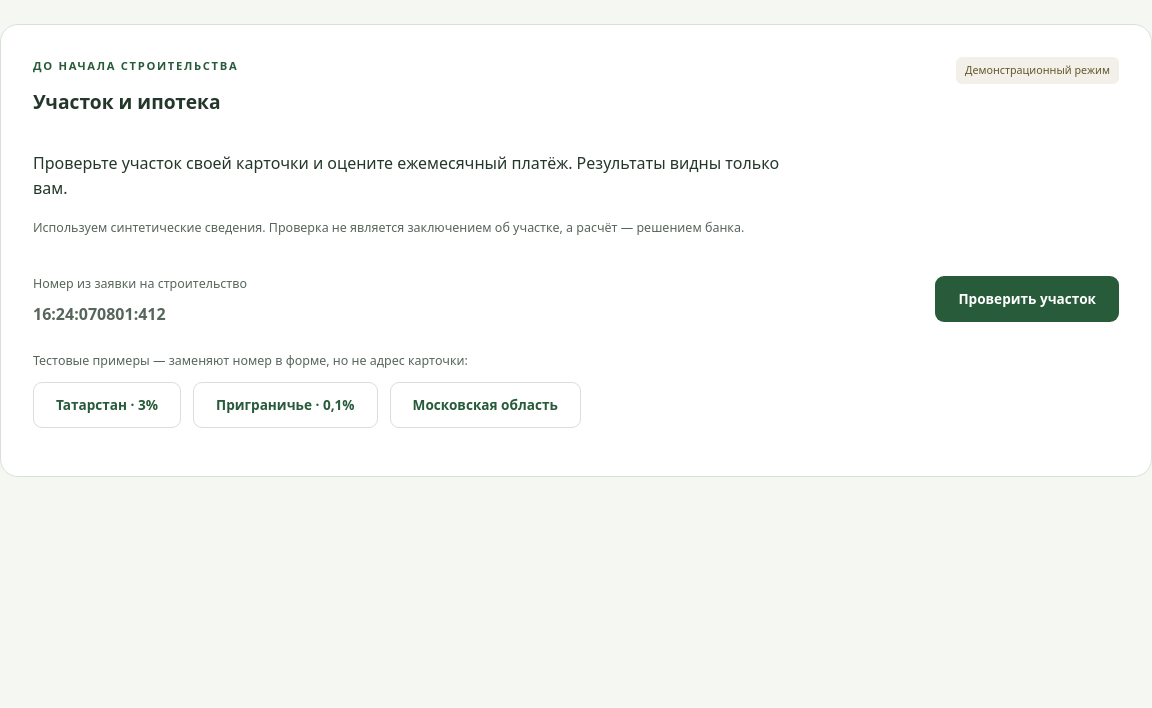
Test case: Участок и предварительная ипотека › проверяет сохранённую заявку и показывает серверный результат
What coordinates should you click on to do the following:
click the button "Проверить участок"
I would click on:
 (1027, 299)
Its box is 935,276 -> 1119,322.
(page scrolled)
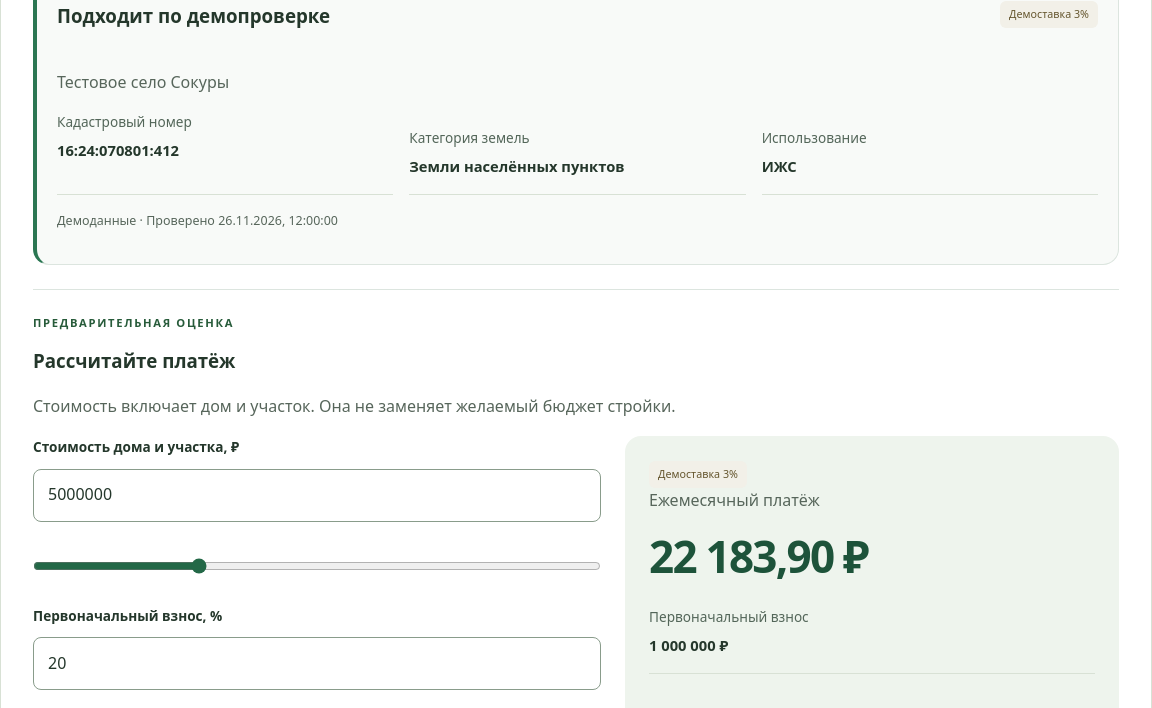
Check: the heading "Подходит по демопроверке" is shown, box 57,1 -> 330,31
Check: the heading "Рассчитайте платёж" is shown, box 33,348 -> 235,373
